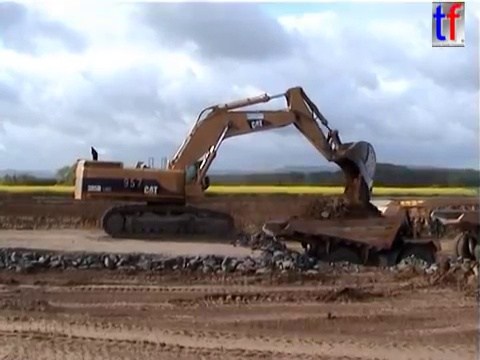excavator: (72, 83, 378, 241)
truck: (260, 196, 444, 285), (429, 206, 480, 270)
